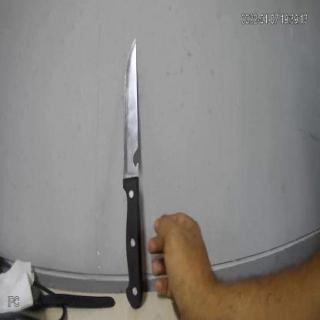knife: (116, 34, 152, 311)
